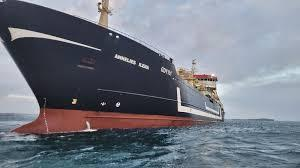Ship: (1, 1, 227, 134)
